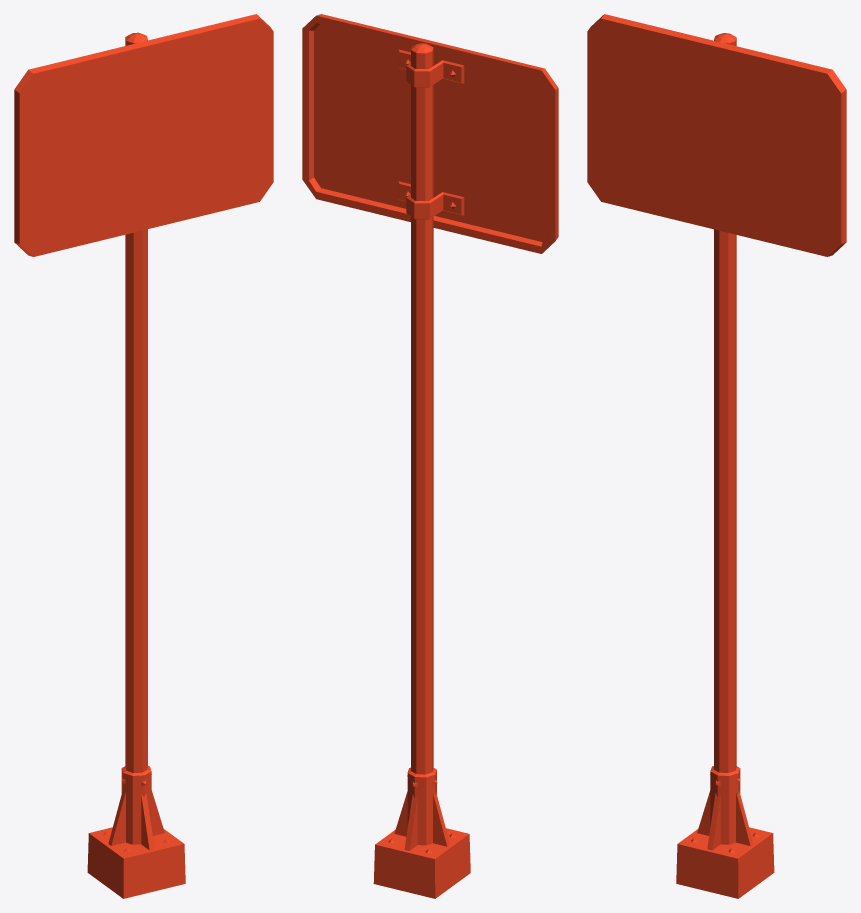
File: SM_Sign_Rectangle_B_City.fbx
The picture shows the model from 3 angles, left to right: view 1: azimuth 30°, elevation 25°; view 2: azimuth 150°, elevation 25°; view 3: azimuth 330°, elevation 25°; orthographic projection.
Parts seen in each view (by area): view 1: SM_Sign_Rectangle_B_City; view 2: SM_Sign_Rectangle_B_City; view 3: SM_Sign_Rectangle_B_City.
Boxes of the visible parts, box(x1,y1,x2,y2) form: SM_Sign_Rectangle_B_City: box(14, 14, 273, 898); SM_Sign_Rectangle_B_City: box(302, 14, 558, 898); SM_Sign_Rectangle_B_City: box(587, 14, 846, 898).
Size of the model in its own units: 0.7567 by 2.38 by 0.1839.
